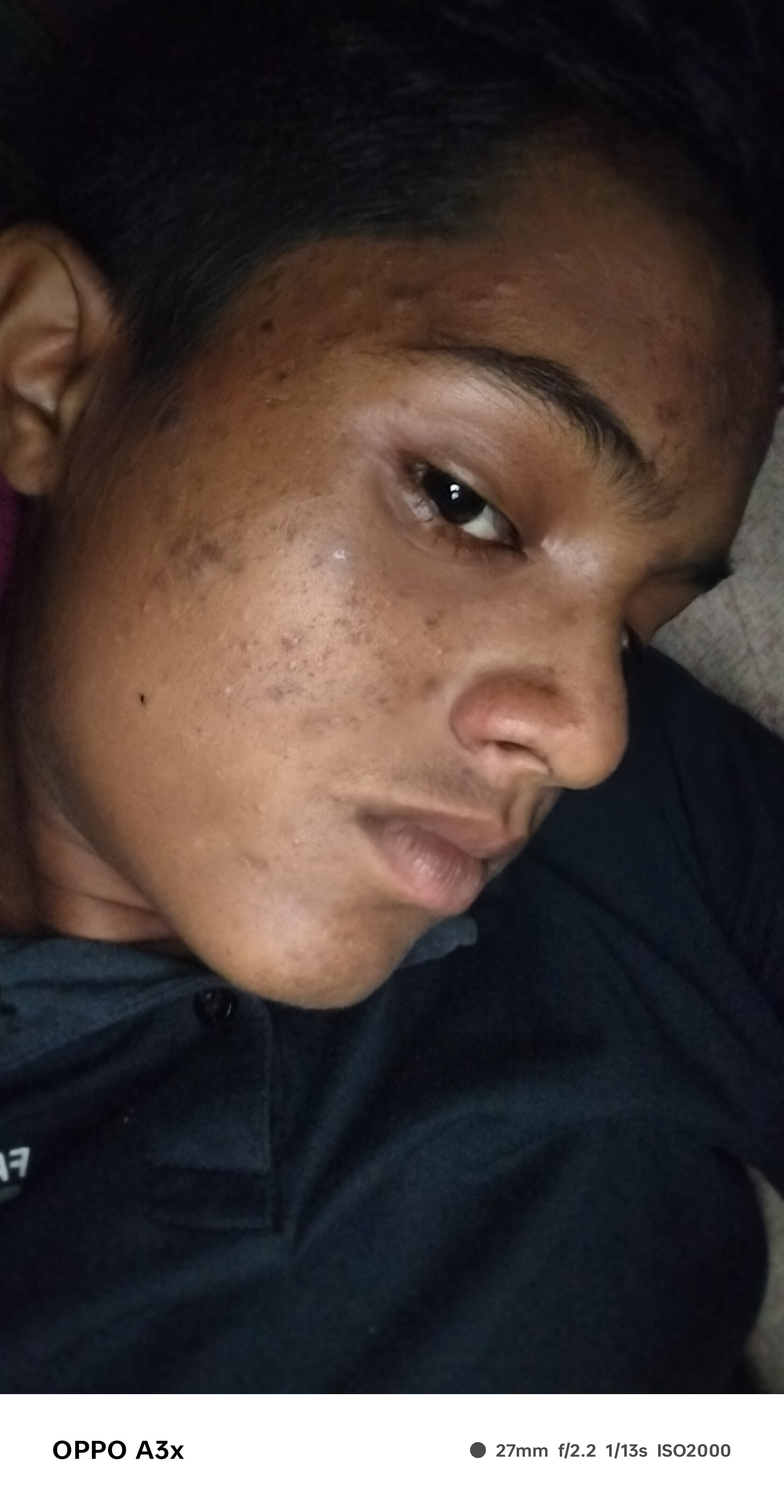closed_comedone: (246, 795, 273, 824), (284, 833, 314, 857), (279, 655, 303, 675)
nodule: (388, 290, 416, 323)
